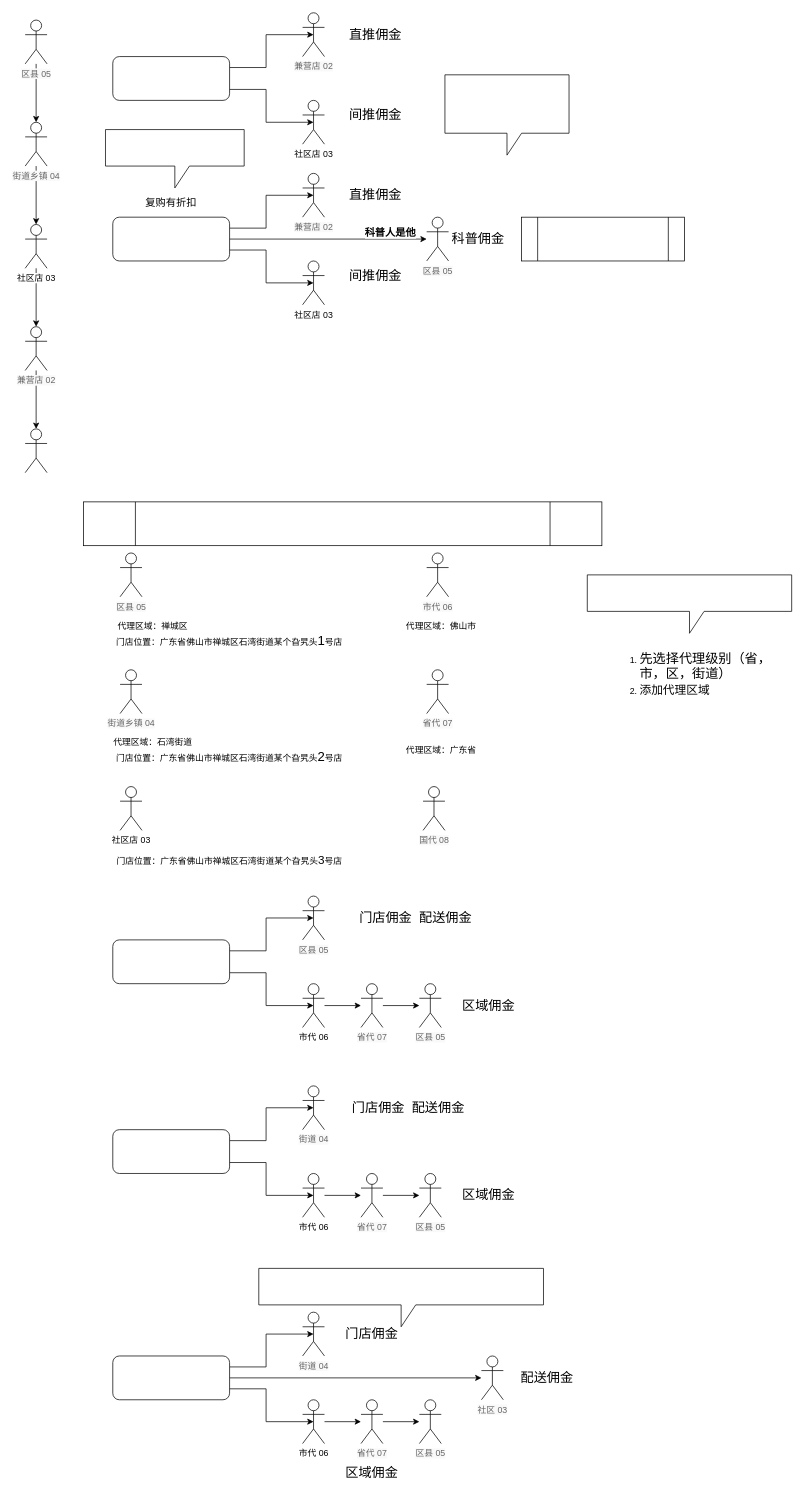
The diagram is 804 pixels wide and 1494 high, and some of its shapes have lost their labels. The shapes that lost their labels are listed below. From the top down, each one's box as (x1, y1, x2, y2) in pixels, then its label:
(112, 56, 230, 100): 订单A 01购买
(444, 74, 569, 155): 佣金设置和升级条件都在分销等级设置
(105, 129, 244, 188): 在商品中设置为保单升级才有
(112, 216, 230, 261): 订单B 01购买 有填写科普人
(521, 216, 684, 261): 下单时填写 科普人员编号（默认手机号）
(24, 428, 47, 473): 会员 01
(83, 501, 602, 546): 区县，街道，社区具备开店资格，在会员中心提交门店申请，后台进行审核
(587, 574, 792, 633): 设置代理区域在会员的区域代理信息设置
(112, 939, 230, 984): 订单C 01购买 选择1号店
(112, 1129, 230, 1173): 订单D 01购买 选择2号店
(258, 1268, 543, 1327): 因社区等级没有门店佣金，查找门店所在地的街道代理，如果没街道代理则门店所在地的区代理获得
(112, 1355, 230, 1400): 订单F 01购买 选择3号店
